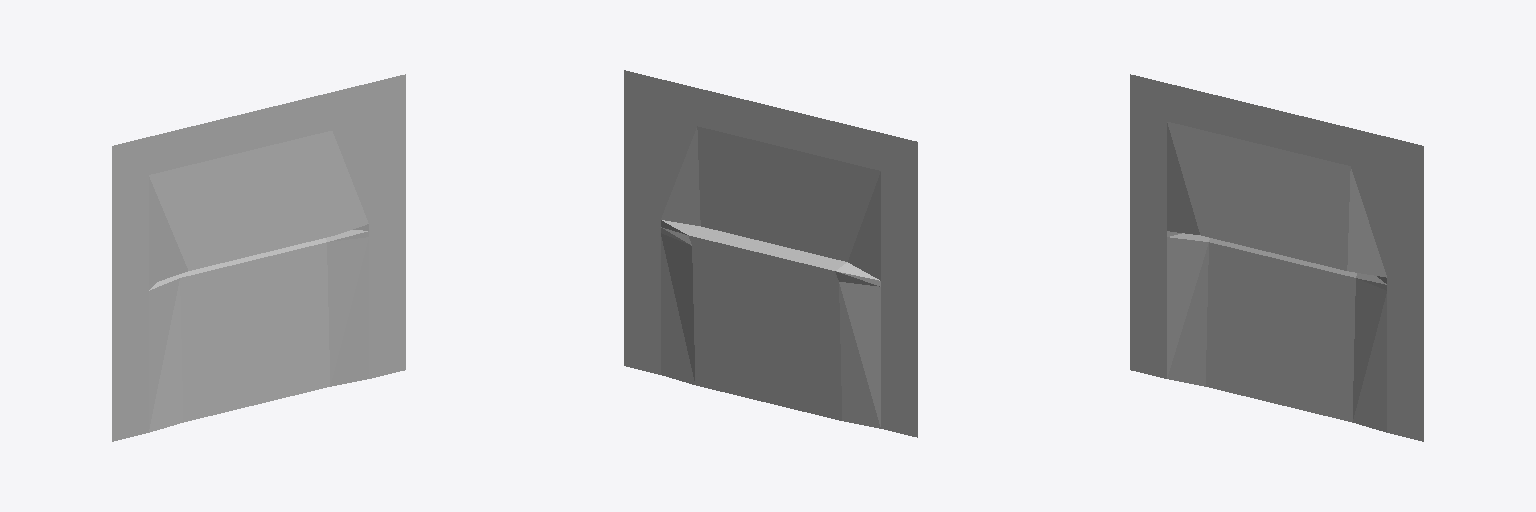
Rendered from _uterwall.obj.
3 views of the same model, side by side, from view 1: azimuth 30°, elevation 25°; view 2: azimuth 150°, elevation 25°; view 3: azimuth 330°, elevation 25° (orthographic).
Parts seen in each view (by area): view 1: polySurface56 polySurface49; view 2: polySurface56 polySurface49; view 3: polySurface56 polySurface49.
Part boxes in pixels (bbox=[...]): polySurface56 polySurface49: bbox=[112, 74, 405, 441]; polySurface56 polySurface49: bbox=[624, 70, 917, 437]; polySurface56 polySurface49: bbox=[1130, 74, 1423, 441].
Size of the model in its own units: 19.14 by 18.43 by 1.39.